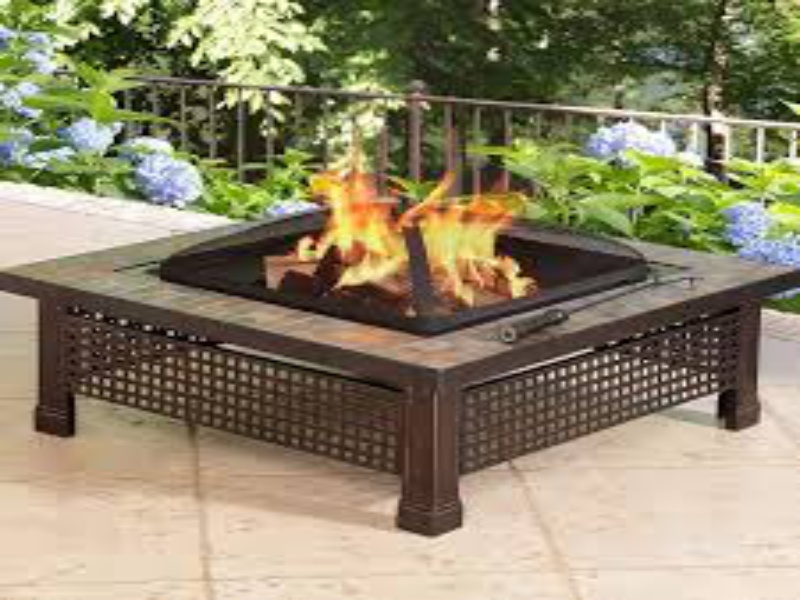fire: (301, 157, 527, 299)
